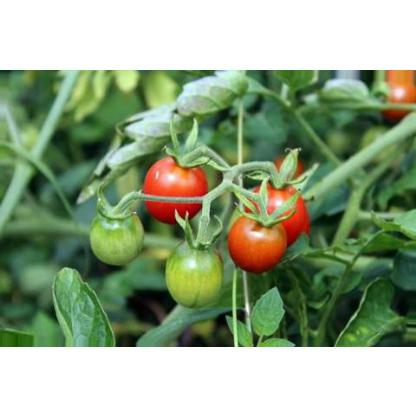tomato: (124, 149, 218, 225), (153, 231, 231, 315), (248, 164, 308, 252), (221, 201, 291, 271), (84, 199, 145, 276)
